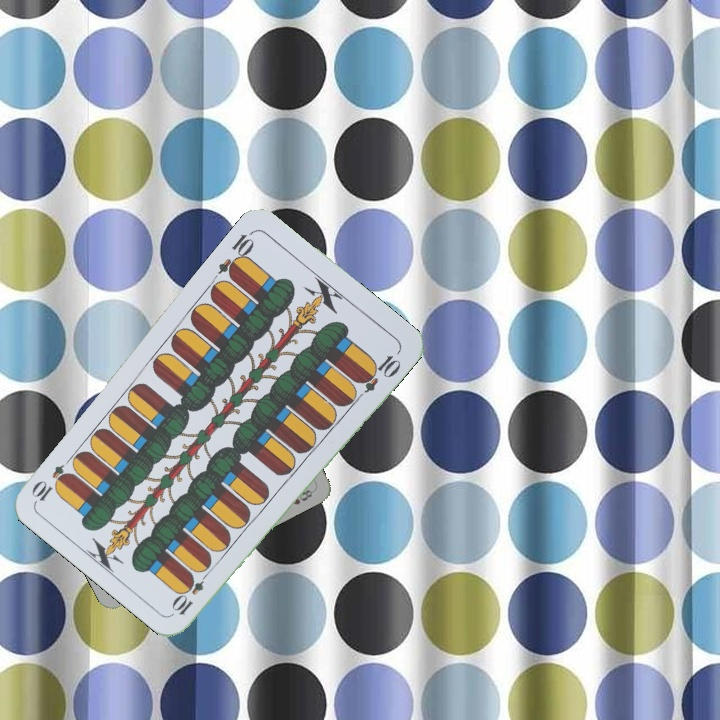E10: (214, 227, 258, 282), (169, 565, 213, 618)
